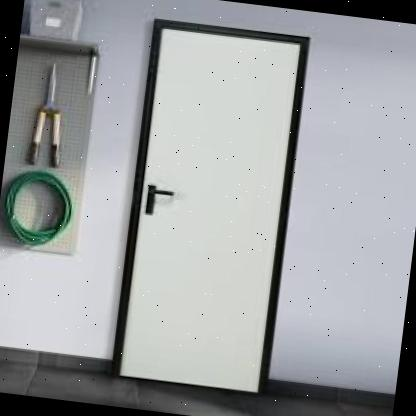door: (103, 7, 314, 398)
